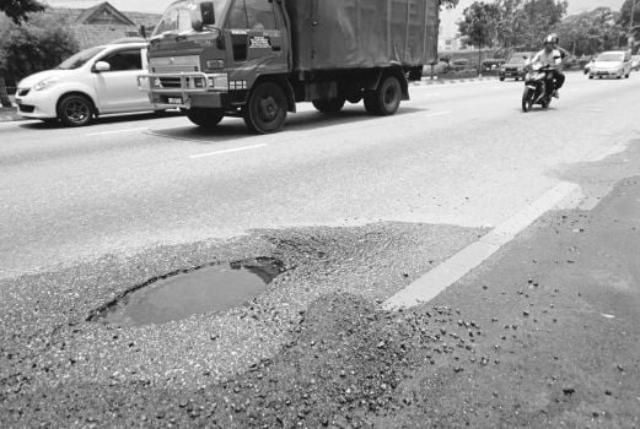Pothole: (83, 254, 280, 330)
